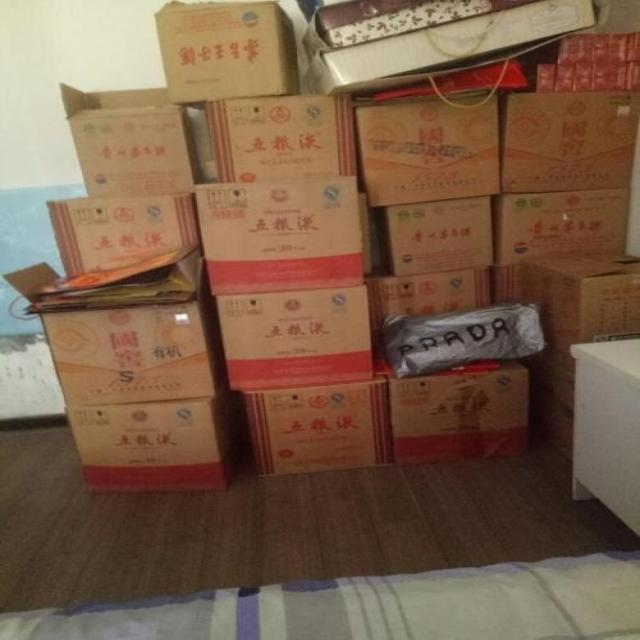box: (3, 257, 225, 406), (323, 0, 595, 86), (64, 377, 248, 495), (195, 176, 365, 296), (215, 286, 375, 392), (356, 95, 502, 207), (59, 84, 202, 198), (155, 0, 302, 109), (242, 374, 392, 477), (388, 360, 529, 465), (502, 90, 640, 193), (204, 93, 357, 182), (522, 252, 640, 363), (46, 193, 200, 275), (316, 0, 543, 48), (494, 188, 631, 265), (365, 265, 493, 347), (374, 196, 493, 275), (520, 353, 576, 415), (530, 385, 573, 463), (356, 192, 374, 274), (493, 265, 522, 302), (559, 35, 581, 64), (554, 64, 576, 92), (538, 63, 557, 92), (577, 34, 594, 63), (594, 35, 611, 64), (575, 63, 593, 90), (611, 35, 627, 64), (611, 61, 627, 90), (626, 60, 640, 90), (626, 33, 640, 60), (594, 65, 609, 90)
